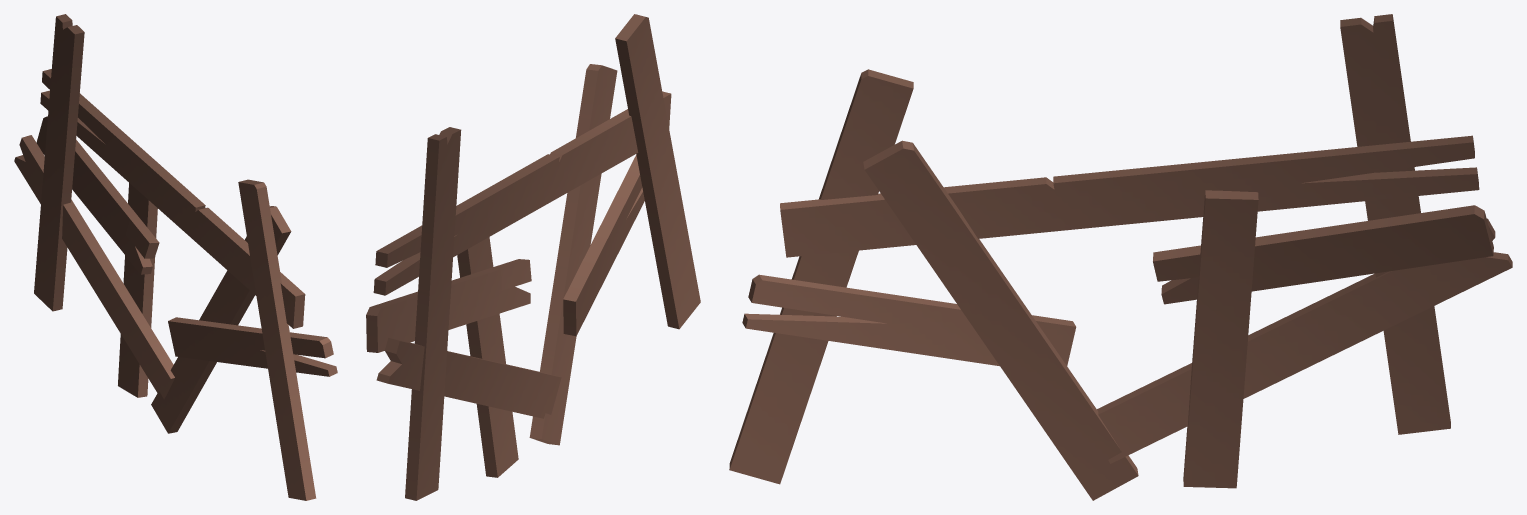
The model's file is mdl_fenceBarrier.fbx.
The picture shows the model from 3 angles, left to right: view 1: azimuth 30°, elevation 25°; view 2: azimuth 150°, elevation 25°; view 3: azimuth 270°, elevation 25°; orthographic projection. The views are drawn at different scales.
Visible parts, largest first — view 1: mdl_fenceBarrier; view 2: mdl_fenceBarrier; view 3: mdl_fenceBarrier.
Part boxes in pixels (x1,y1,x2,y2): mdl_fenceBarrier: [14, 14, 337, 500]; mdl_fenceBarrier: [366, 14, 700, 500]; mdl_fenceBarrier: [729, 14, 1512, 500].
Bounding box in the file's own units: 0.3776 × 2.32 × 3.44.
